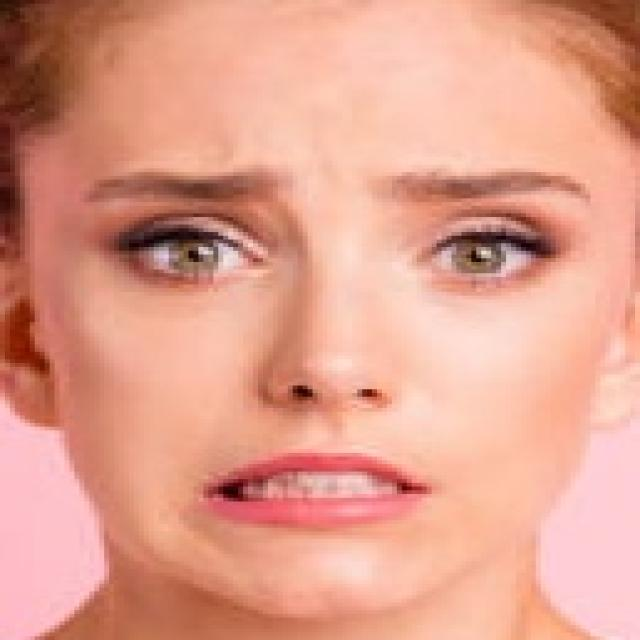Anxiety: (9, 0, 635, 623)
